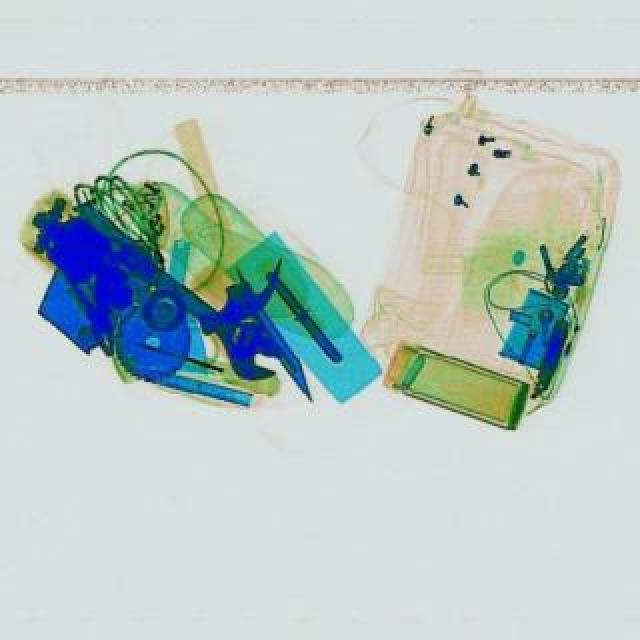scissors: (86, 218, 298, 392)
